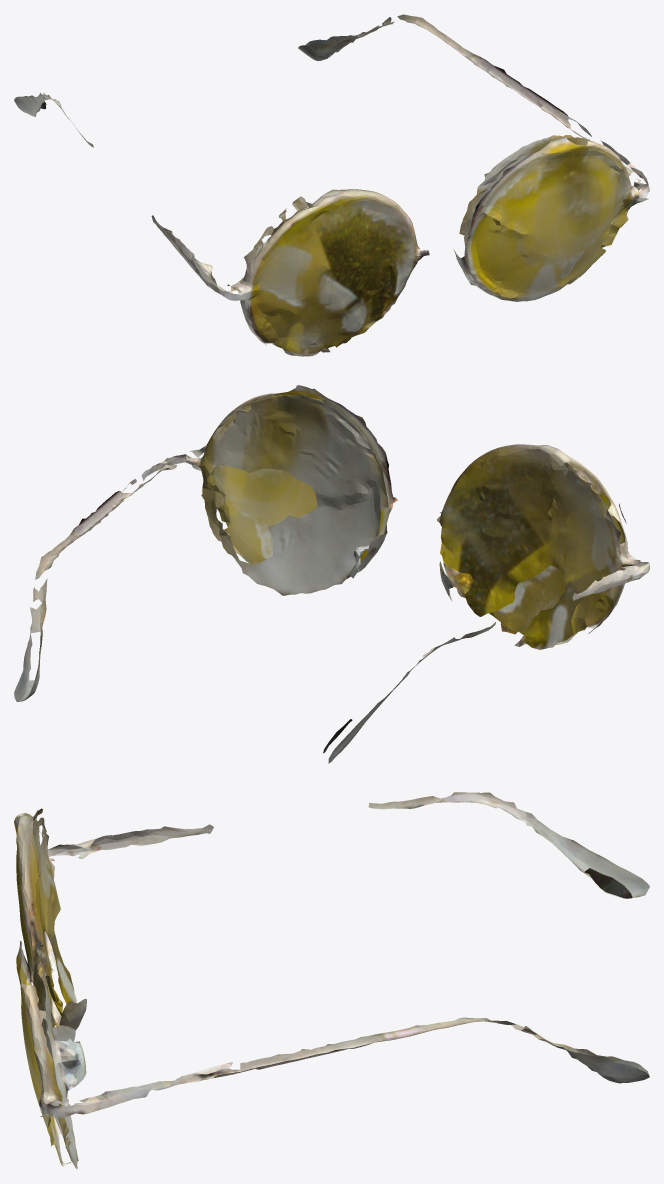
The model's file is scan_align.obj.
The picture shows the model from 3 angles, top to bottom: view 1: azimuth 30°, elevation 25°; view 2: azimuth 150°, elevation 25°; view 3: azimuth 270°, elevation 25°; orthographic projection. The views are drawn at different scales.
Bounding box in the file's own units: 0.1369 × 0.0523 × 0.1431.
1 material, 1 textured.
